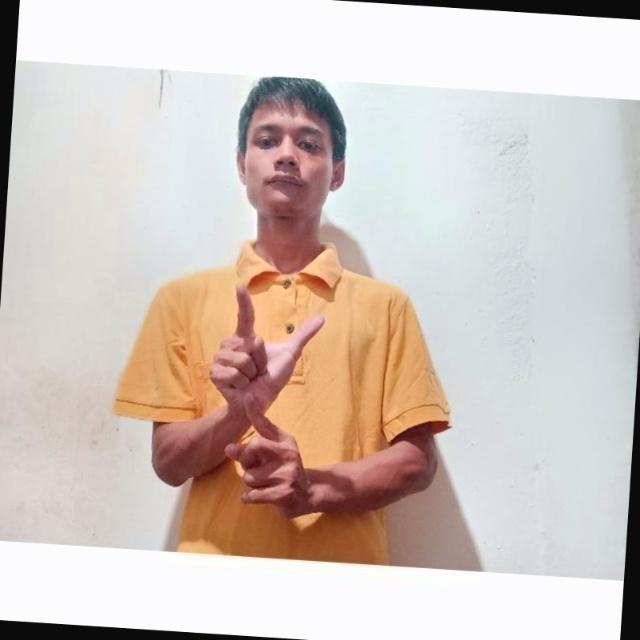Y: (201, 273, 332, 517)
